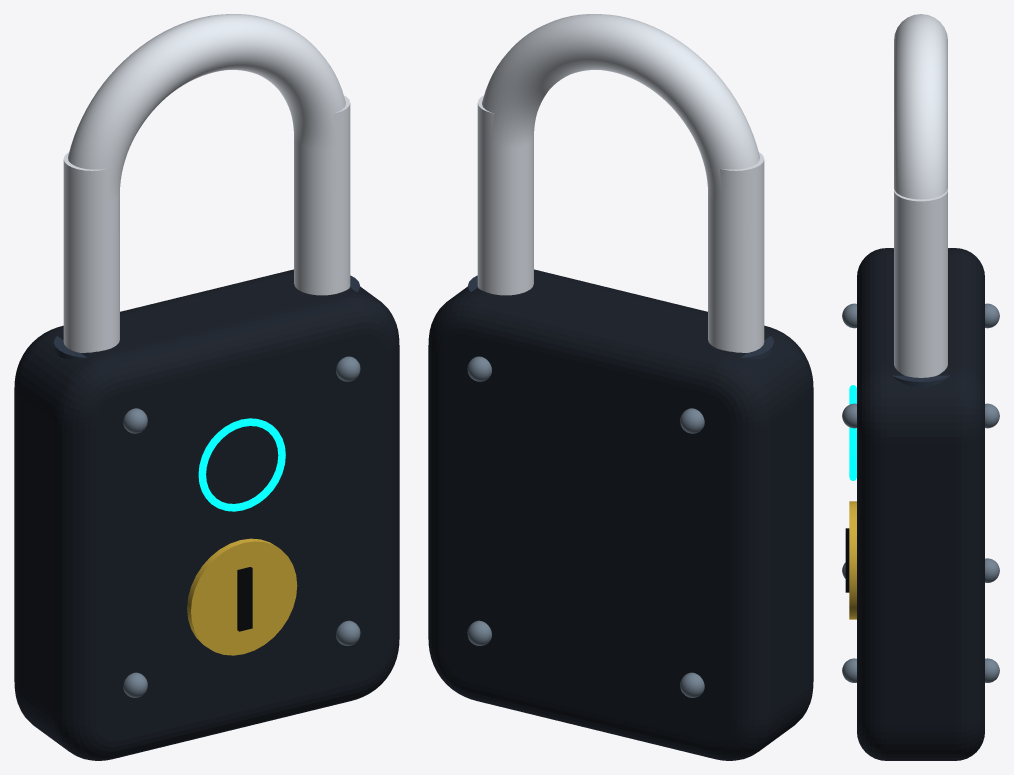
File: padlock.glb
3 renders of one model, left to right at view 1: azimuth 30°, elevation 25°; view 2: azimuth 150°, elevation 25°; view 3: azimuth 270°, elevation 25°, orthographic. The views are drawn at different scales.
Parts seen in each view (by area): view 1: Padlock_Body, Padlock_Shackle, Veilio_Padlock_Assembly; view 2: Padlock_Body, Padlock_Shackle, Veilio_Padlock_Assembly; view 3: Padlock_Body, Padlock_Shackle, Veilio_Padlock_Assembly.
Part boxes in pixels (x1,y1,x2,y2): Padlock_Body: (14,269,399,760); Padlock_Shackle: (53,14,360,359); Veilio_Padlock_Assembly: (123,356,360,697); Padlock_Body: (428,269,813,760); Padlock_Shackle: (467,14,774,359); Veilio_Padlock_Assembly: (467,356,704,697); Padlock_Body: (857,248,984,760); Padlock_Shackle: (892,14,949,387); Veilio_Padlock_Assembly: (842,303,999,682).
Size of the model in its own units: 1.54 by 3 by 0.64.
